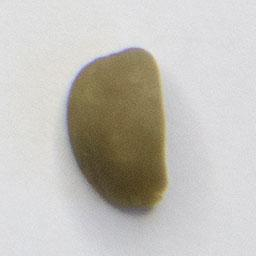premium: (64, 44, 171, 212)
